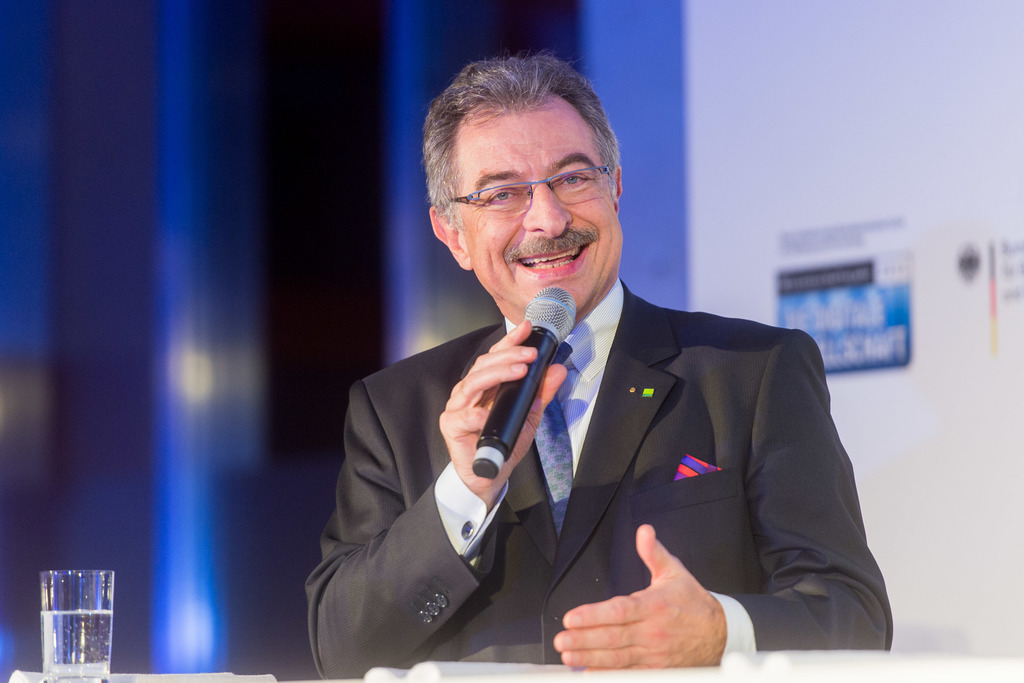Human_hand: (435, 317, 570, 491), (562, 546, 759, 664)
